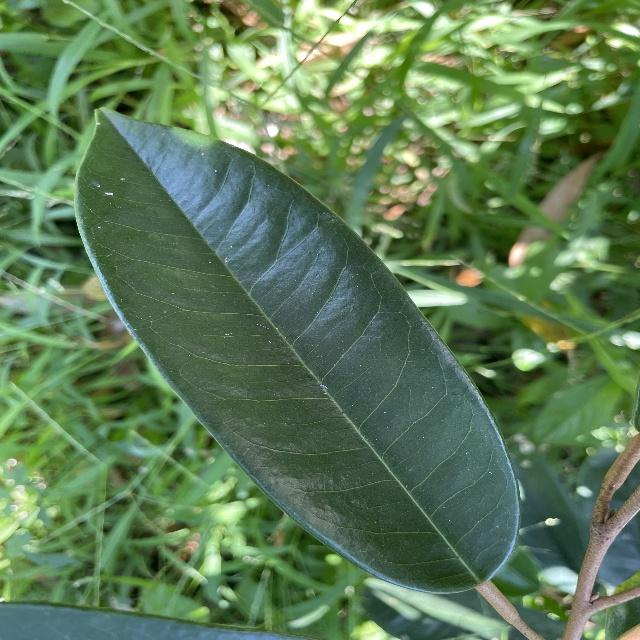No Disease: (67, 100, 526, 603)
